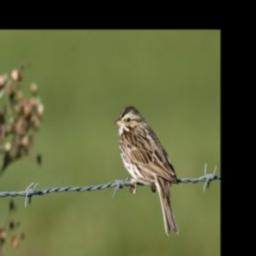Sparrow: (114, 104, 182, 239)
